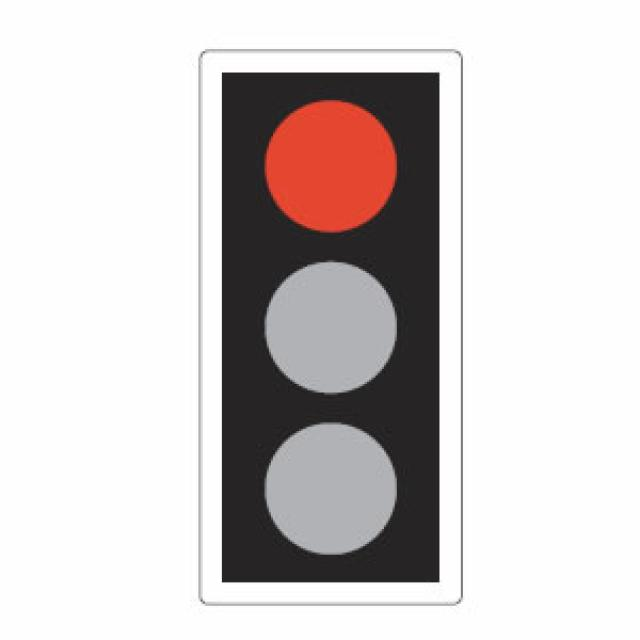red: (247, 94, 410, 234)
